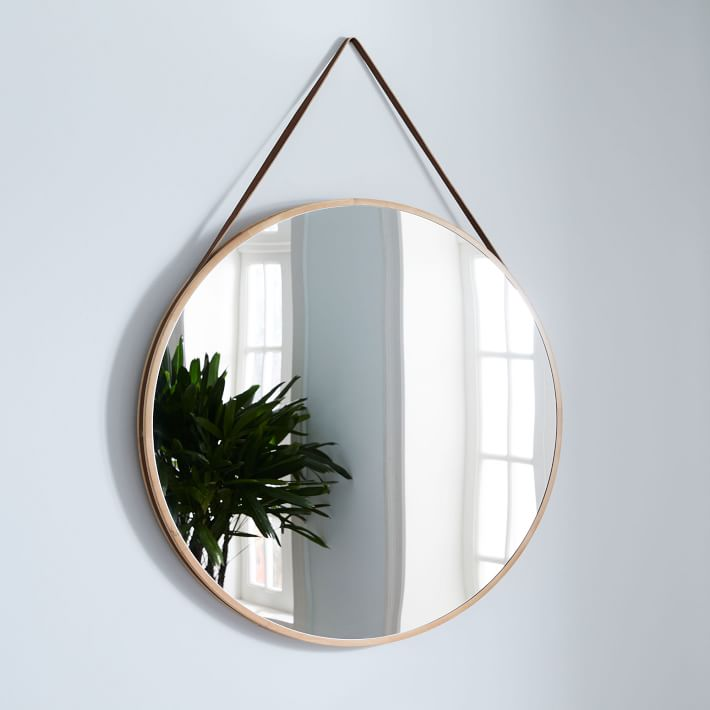Nonrec_Glass: (122, 172, 588, 637)
